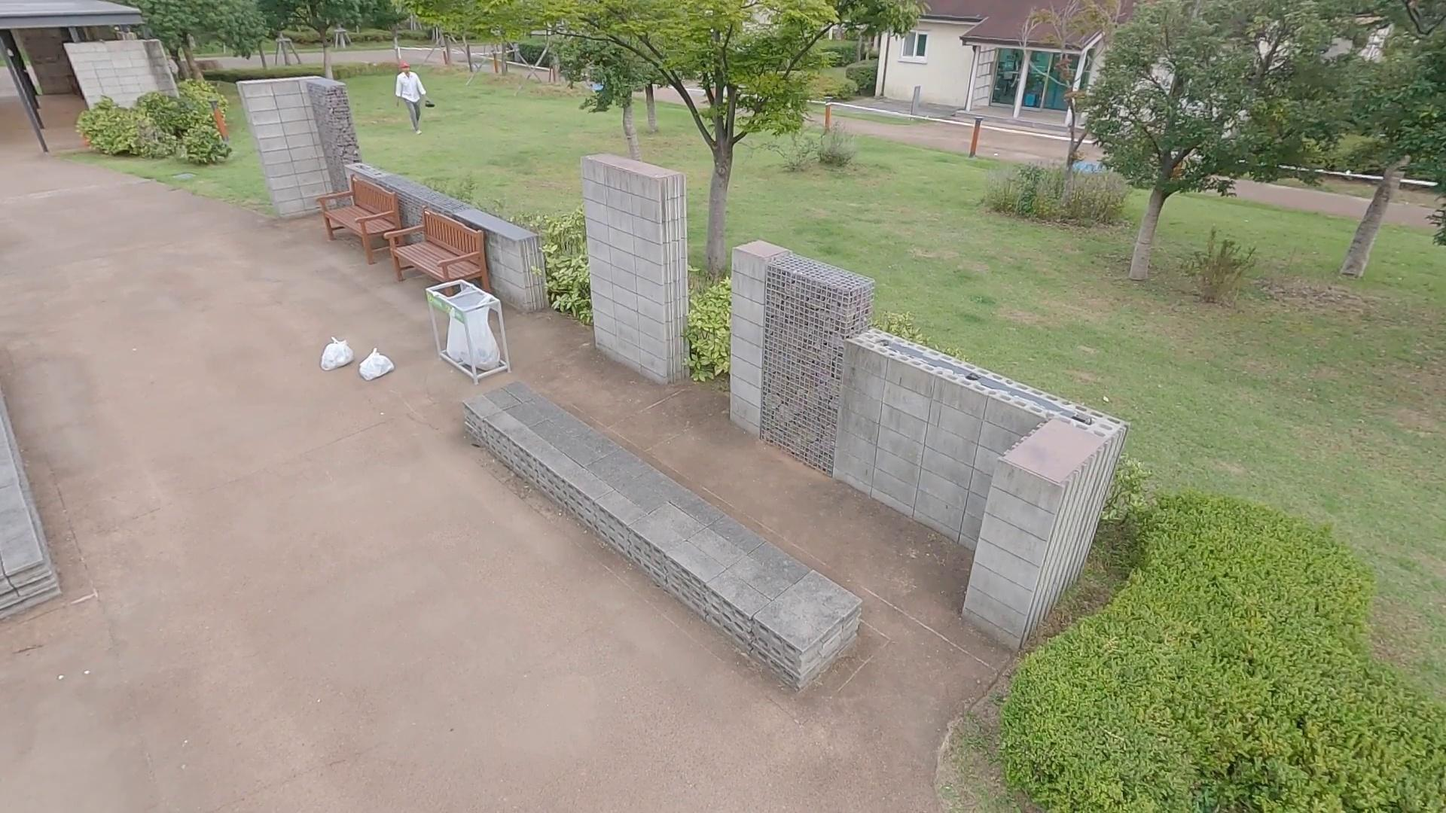person: (395, 61, 431, 136)
trash: (358, 348, 396, 382), (320, 336, 354, 370), (424, 100, 436, 109)
